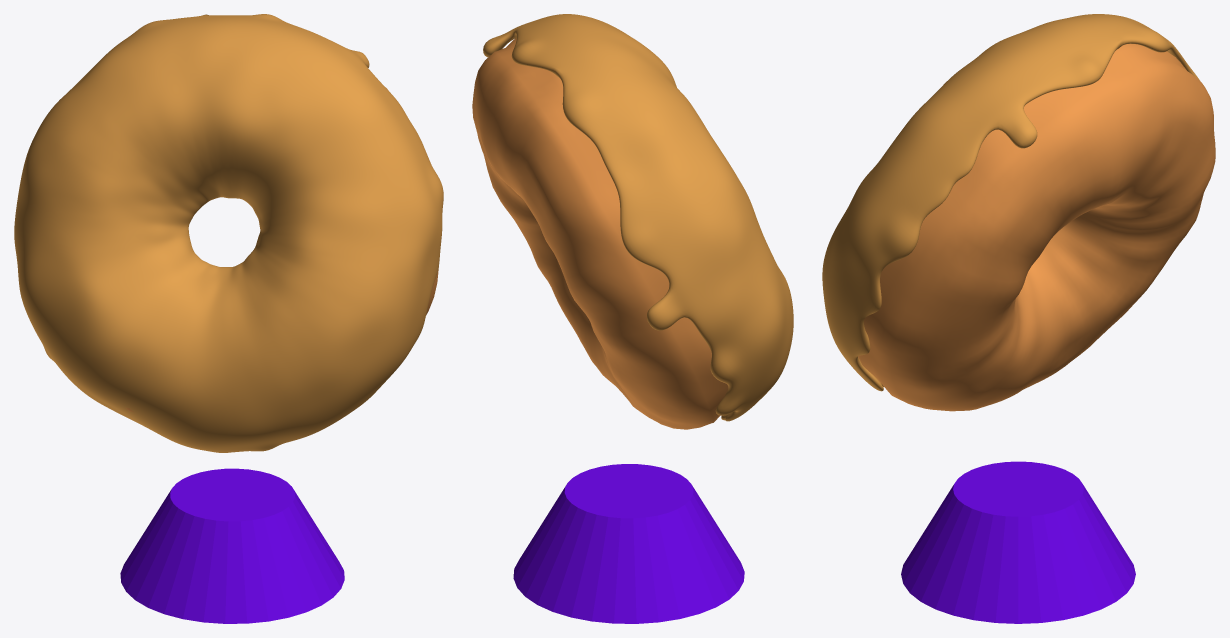
The model's file is warasdfad.fbx.
The picture shows the model from 3 angles, left to right: view 1: azimuth 30°, elevation 25°; view 2: azimuth 150°, elevation 25°; view 3: azimuth 270°, elevation 25°; orthographic projection. The views are drawn at different scales.
Parts seen in each view (by area): view 1: Icing, Cylinder; view 2: Icing, Cylinder; view 3: Icing, Cylinder.
Part boxes in pixels (<box>): Icing: <box>14,14,443,452</box>; Cylinder: <box>120,468,344,623</box>; Icing: <box>472,14,793,429</box>; Cylinder: <box>513,464,744,623</box>; Icing: <box>822,14,1215,411</box>; Cylinder: <box>901,461,1135,623</box>.
Size of the model in its own units: 348 by 520 by 335.
